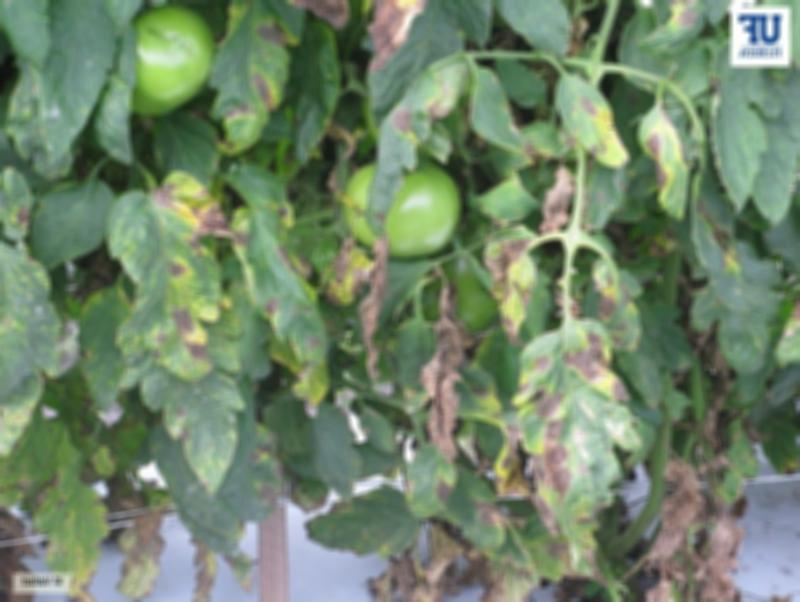Tomato Early blight leaf: (111, 165, 228, 395), (511, 322, 621, 555), (234, 147, 313, 415), (361, 58, 468, 231), (207, 11, 306, 154), (0, 237, 60, 455), (473, 227, 555, 327), (554, 75, 615, 181), (590, 254, 640, 375), (636, 110, 693, 213), (399, 447, 459, 524)
